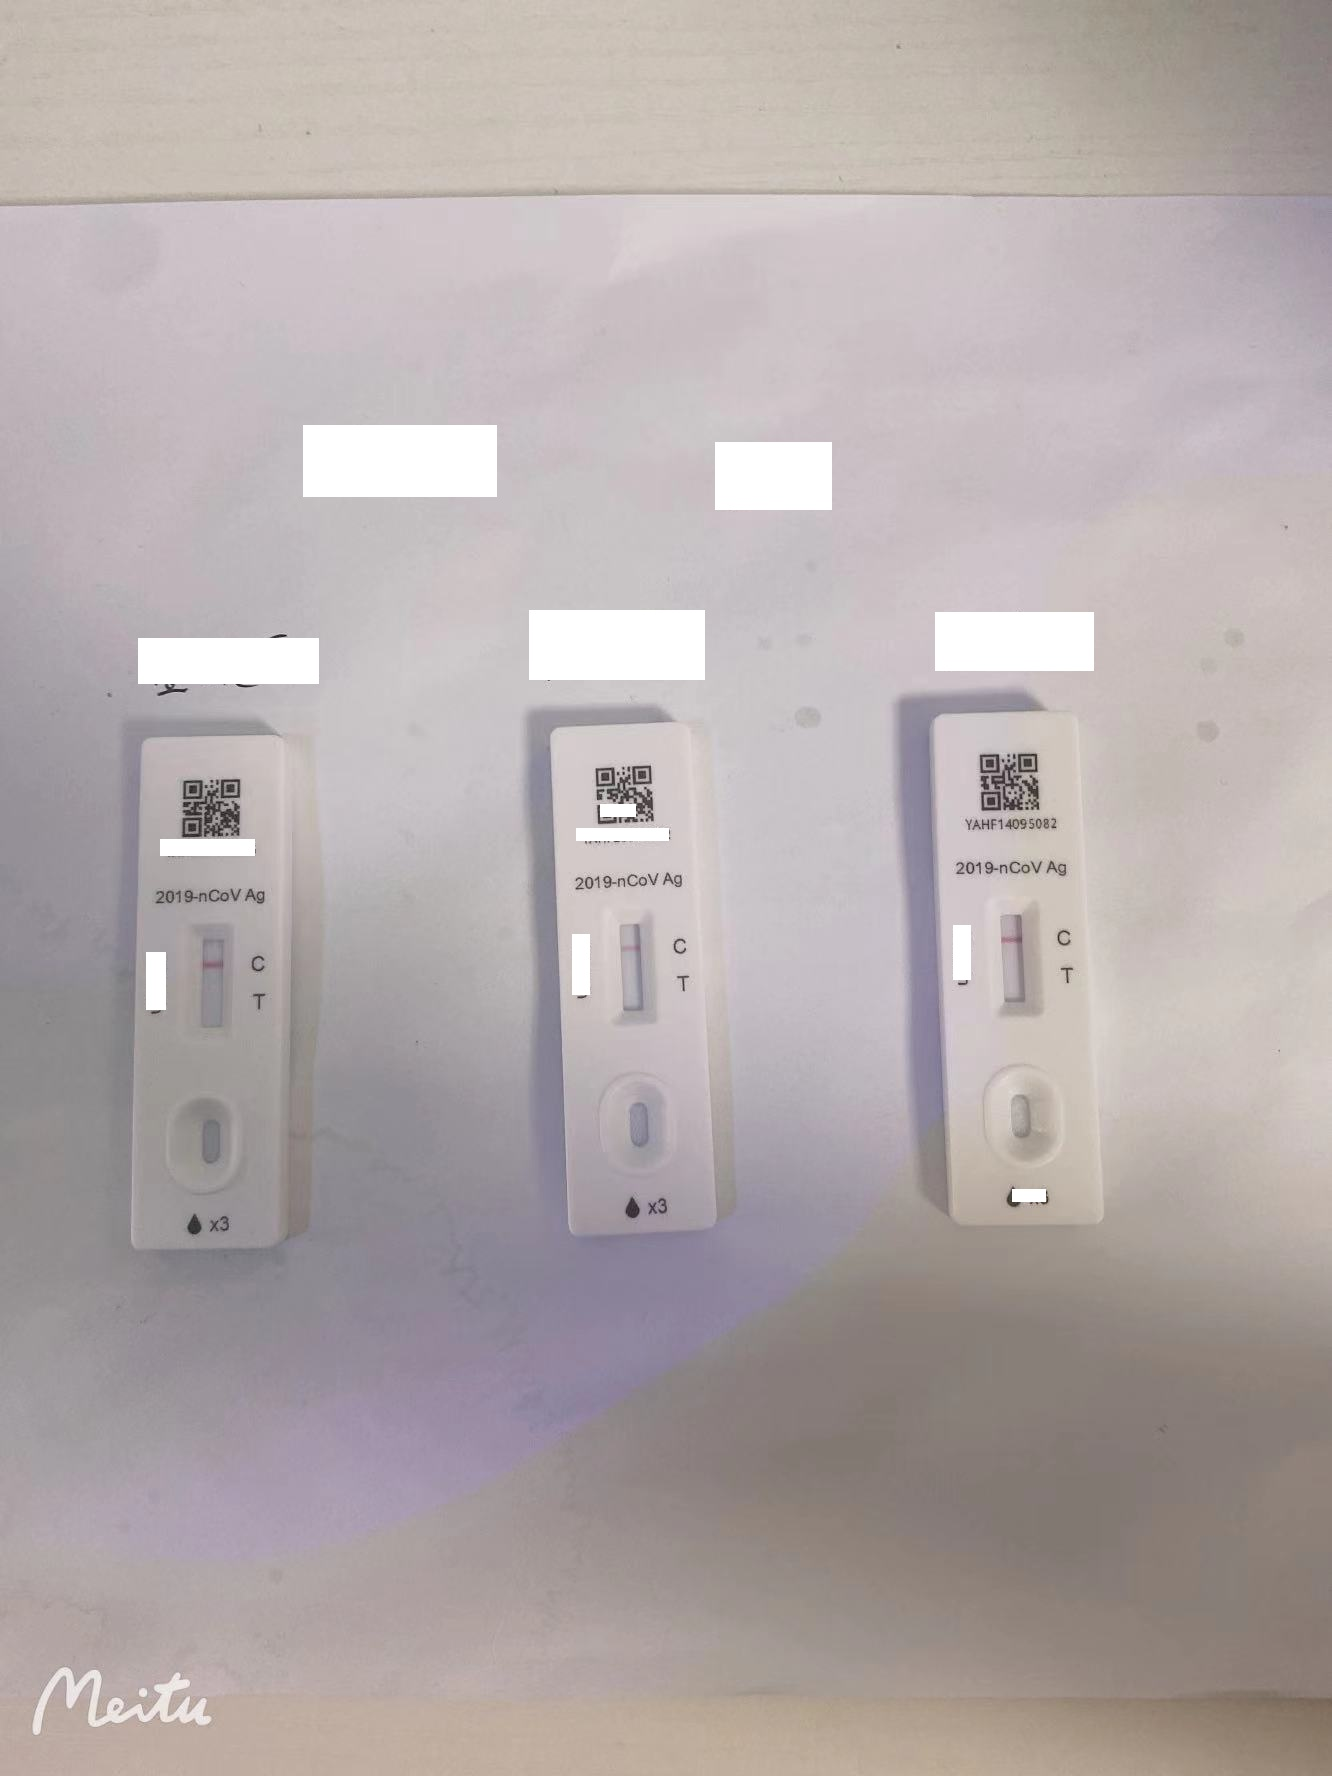negative: (995, 901, 1033, 1012), (192, 927, 228, 1031)
